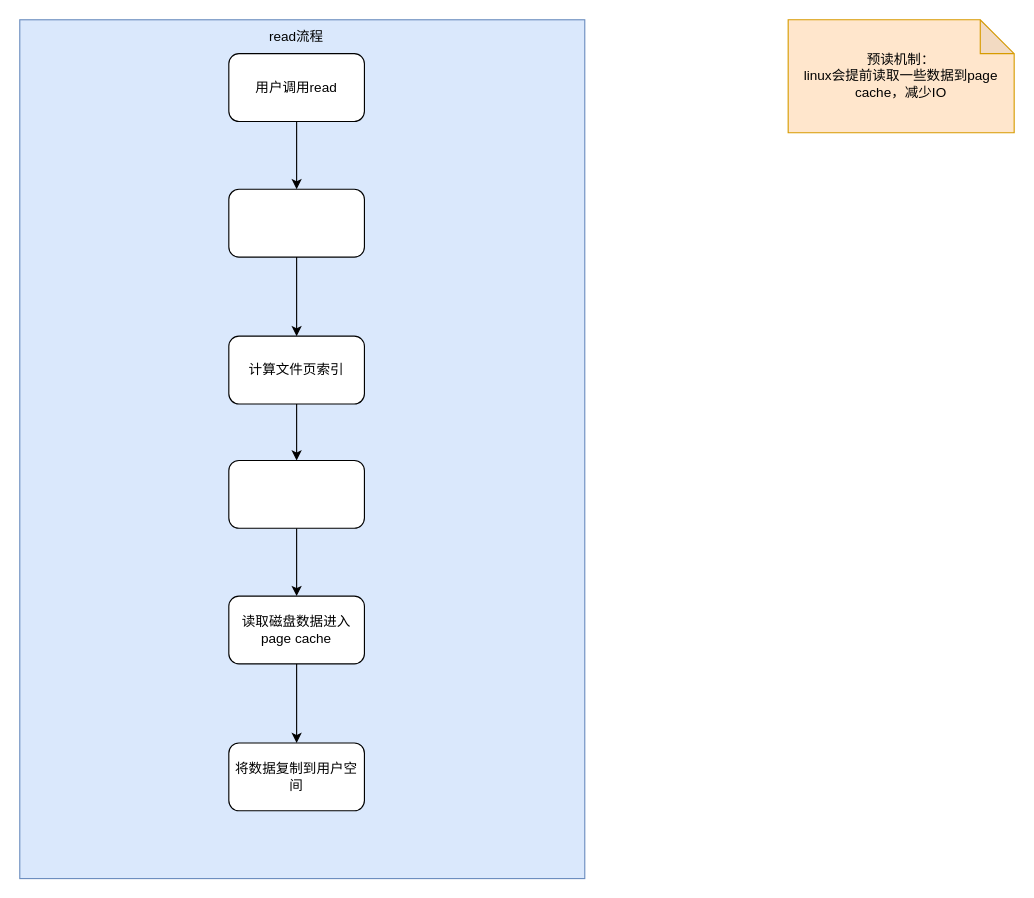
Some shapes in this 1034 by 898 pixel diagram are drawn without their labels. Here are the shapes that lost their labels. From the top down, the box of each, then its label:
(228, 188, 364, 257): 根据fd找到文件对象：struct file
(228, 459, 364, 528): 发现cache miss
